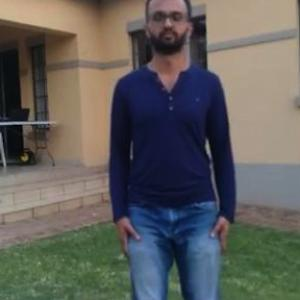follow: (113, 4, 225, 299)
